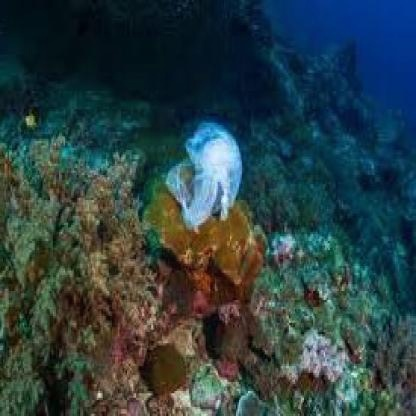pbag: (164, 118, 244, 232)
